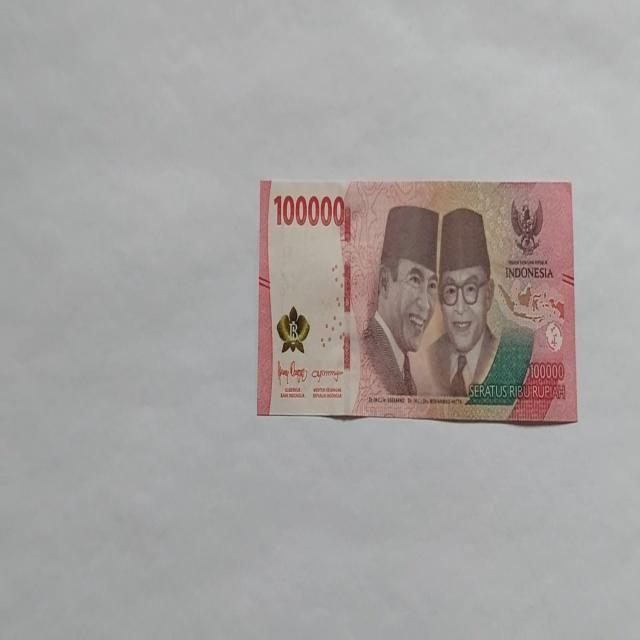seratus ribu rupiah: (257, 177, 577, 424), (352, 203, 440, 414)
